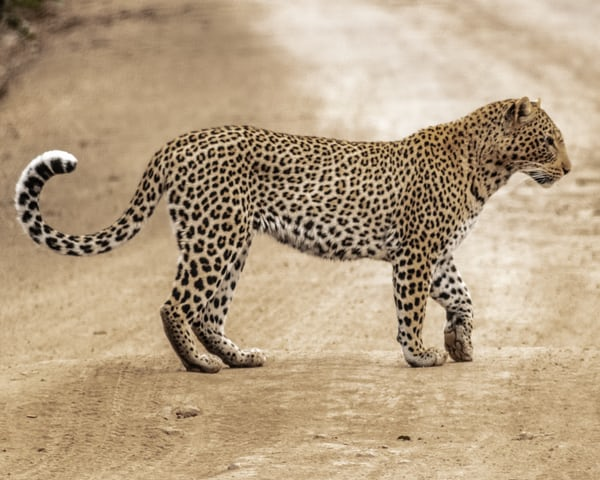cheetah: (459, 85, 580, 205)
